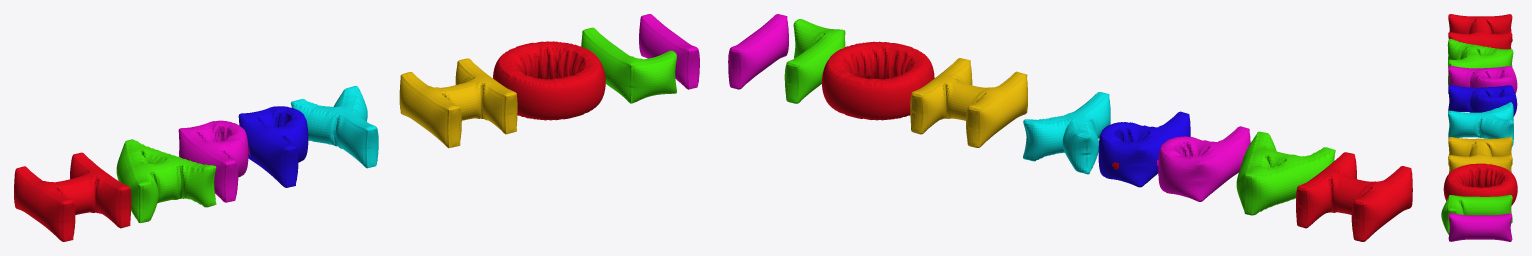
File: color-holi.glb
3 views of the same model, side by side, from view 1: azimuth 30°, elevation 25°; view 2: azimuth 150°, elevation 25°; view 3: azimuth 270°, elevation 25° (orthographic). The views are drawn at different scales.
Parts seen in each view (by area): view 1: Text, Text.002, Text.008, Text.009, Text.004, Text.003, Text.005, Text.010, Text.001; view 2: Text, Text.002, Text.008, Text.010, Text.009, Text.003, Text.004, Text.005, Text.001; view 3: Text, Text.008, Text.003, Text.002, Text.001, Text.004, Text.009, Text.005, Text.010.
Boxes of the visible parts, left/top/right/bottom form: Text: left=493, top=41, right=605, bottom=120; Text.002: left=399, top=58, right=517, bottom=148; Text.008: left=14, top=152, right=131, bottom=241; Text.009: left=116, top=139, right=216, bottom=223; Text.004: left=238, top=106, right=308, bottom=187; Text.003: left=290, top=86, right=378, bottom=168; Text.005: left=581, top=27, right=676, bottom=103; Text.010: left=178, top=120, right=250, bottom=202; Text.001: left=639, top=14, right=699, bottom=89; Text: left=822, top=41, right=1118, bottom=169; Text.002: left=910, top=58, right=1027, bottom=147; Text.008: left=1296, top=152, right=1412, bottom=241; Text.010: left=1157, top=126, right=1250, bottom=201; Text.009: left=1236, top=131, right=1335, bottom=215; Text.003: left=1023, top=92, right=1110, bottom=174; Text.004: left=1098, top=111, right=1190, bottom=187; Text.005: left=784, top=19, right=845, bottom=103; Text.001: left=728, top=14, right=788, bottom=89; Text: left=1443, top=103, right=1517, bottom=205; Text.008: left=1448, top=14, right=1512, bottom=49; Text.003: left=1448, top=102, right=1513, bottom=146; Text.002: left=1448, top=137, right=1512, bottom=172; Text.001: left=1448, top=213, right=1512, bottom=241; Text.004: left=1448, top=85, right=1516, bottom=116; Text.009: left=1447, top=38, right=1513, bottom=85; Text.005: left=1441, top=195, right=1512, bottom=234; Text.010: left=1448, top=65, right=1517, bottom=93.
Size of the model in its own units: 5.6 by 0.3475 by 0.8655.
